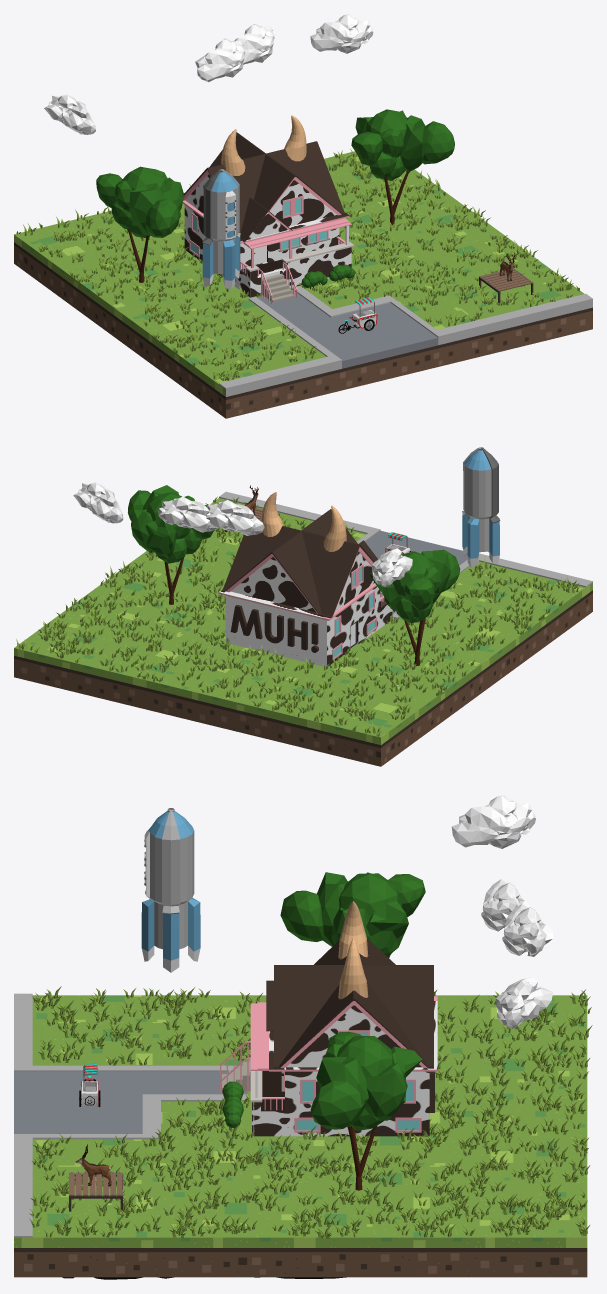
3 renders of one model, top to bottom at view 1: azimuth 30°, elevation 25°; view 2: azimuth 150°, elevation 25°; view 3: azimuth 270°, elevation 25°, orthographic. The views are drawn at different scales.
Visible parts, largest first — view 1: Cube.006, Circle.012_Grass_0.192, Cube.1242, Cube.007, tree, tree.001, OBJRANDOM_ROCKETSHIP, Cube.009, VEHICLES_SNOWBAL_BIKE; view 2: Cube.006, Cube.1242, Circle.012_Grass_0.192, Cube.007, OBJRANDOM_ROCKETSHIP, tree.001, tree; view 3: Cube.006, Circle.012_Grass_0.192, Cube.1242, tree, Cube.007, tree.001, OBJRANDOM_ROCKETSHIP, Cube.009, VEHICLES_SNOWBAL_BIKE.
Boxes of the visible parts, bbox=[...] form: Cube.006: bbox=[14, 151, 592, 418]; Circle.012_Grass_0.192: bbox=[16, 148, 579, 381]; Cube.1242: bbox=[182, 115, 354, 303]; Cube.007: bbox=[44, 14, 373, 134]; tree: bbox=[351, 109, 454, 225]; tree.001: bbox=[96, 166, 183, 282]; OBJRANDOM_ROCKETSHIP: bbox=[202, 169, 240, 289]; Cube.009: bbox=[479, 268, 533, 302]; VEHICLES_SNOWBAL_BIKE: bbox=[338, 297, 377, 333]; Cube.006: bbox=[14, 491, 592, 766]; Cube.1242: bbox=[218, 492, 392, 666]; Circle.012_Grass_0.192: bbox=[16, 497, 579, 736]; Cube.007: bbox=[73, 482, 412, 587]; OBJRANDOM_ROCKETSHIP: bbox=[462, 447, 500, 567]; tree.001: bbox=[369, 549, 460, 665]; tree: bbox=[128, 485, 213, 604]; Cube.006: bbox=[14, 993, 587, 1277]; Circle.012_Grass_0.192: bbox=[29, 986, 592, 1238]; Cube.1242: bbox=[220, 901, 437, 1136]; tree: bbox=[310, 1031, 422, 1190]; Cube.007: bbox=[451, 795, 552, 1028]; tree.001: bbox=[280, 872, 425, 957]; OBJRANDOM_ROCKETSHIP: bbox=[141, 808, 200, 972]; Cube.009: bbox=[69, 1172, 122, 1211]; VEHICLES_SNOWBAL_BIKE: bbox=[79, 1063, 100, 1107].
Size of the model in its own units: 4071 by 2149 by 4040.
39 materials, 3 textured.
